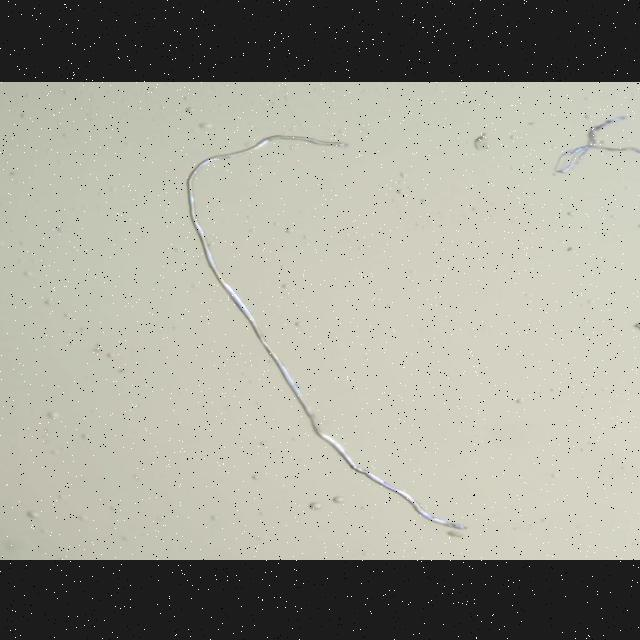Fibre: (183, 133, 469, 531)
